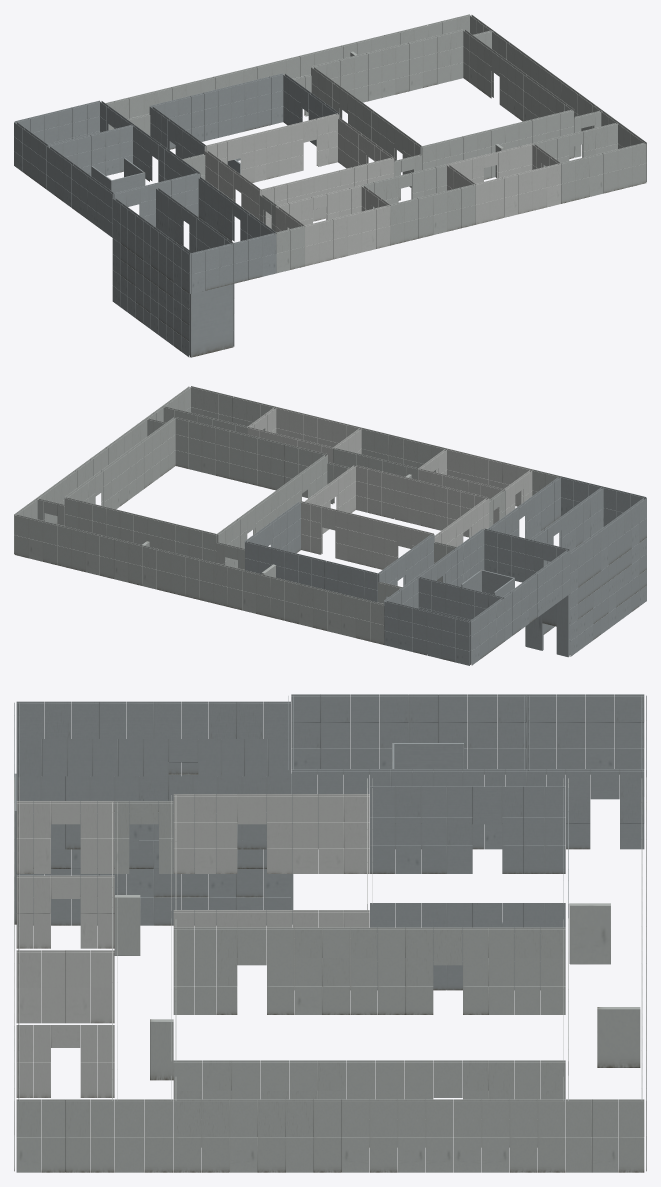
File: WS_B3_Walls.fbx
3 views of the same model, one above another, from view 1: azimuth 30°, elevation 25°; view 2: azimuth 150°, elevation 25°; view 3: azimuth 270°, elevation 25° (orthographic). The views are drawn at different scales.
Parts seen in each view (by area): view 1: WS_B3_WS_Steel_5_3, WS_B3_WS_Staff_0_3, WS_B3_WS_Steel_5_2, WS_B3_WS_Steel_5_0, WS_B3_WS_Staff_1_0, WS_B3_WS_Clean_3_3, WS_B3_WS_Staff_0_0, WS_B3_WS_Staff_2_3, WS_B3_WS_Clean_1_3, WS_B3_WS_Steel_3_0, WS_B3_WS_Clean_4_3, WS_B3_WS_Steel_4_0 (+22 smaller); view 2: WS_B3_WS_Steel_5_3, WS_B3_WS_Steel_5_2, WS_B3_WS_Steel_5_0, WS_B3_WS_Staff_1_0, WS_B3_WS_Staff_0_0, WS_B3_WS_Staff_0_2, WS_B3_WS_Staff_2_0, WS_B3_WS_Staff_1_2, WS_B3_WS_Clean_3_2, WS_B3_WS_Steel_4_0, WS_B3_WS_Clean_3_1, WS_B3_WS_Staff_4_0 (+23 smaller); view 3: WS_B3_WS_Steel_5_3, WS_B3_WS_Staff_0_2, WS_B3_WS_Staff_0_1, WS_B3_WS_Steel_5_2, WS_B3_WS_Staff_0_0, WS_B3_WS_Steel_5_1, WS_B3_WS_Staff_2_1, WS_B3_WS_Steel_4_1, WS_B3_WS_Steel_4_0, WS_B3_WS_Staff_0_3, WS_B3_WS_Staff_2_2, WS_B3_WS_Steel_5_0 (+18 smaller).
Part boxes in pixels (left/top/right/bottom): WS_B3_WS_Steel_5_3: left=143, top=212, right=262, bottom=357; WS_B3_WS_Staff_0_3: left=532, top=110, right=646, bottom=200; WS_B3_WS_Steel_5_2: left=104, top=176, right=191, bottom=323; WS_B3_WS_Steel_5_0: left=14, top=104, right=119, bottom=195; WS_B3_WS_Staff_1_0: left=313, top=31, right=423, bottom=102; WS_B3_WS_Clean_3_3: left=301, top=161, right=390, bottom=255; WS_B3_WS_Staff_0_0: left=398, top=14, right=516, bottom=92; WS_B3_WS_Staff_2_3: left=385, top=141, right=475, bottom=238; WS_B3_WS_Clean_1_3: left=470, top=143, right=561, bottom=221; WS_B3_WS_Steel_3_0: left=190, top=76, right=270, bottom=160; WS_B3_WS_Clean_4_3: left=261, top=181, right=347, bottom=266; WS_B3_WS_Steel_4_0: left=85, top=96, right=191, bottom=172; WS_B3_WS_Steel_5_3: left=559, top=480, right=646, bottom=634; WS_B3_WS_Steel_5_2: left=497, top=518, right=600, bottom=657; WS_B3_WS_Steel_5_0: left=398, top=580, right=512, bottom=665; WS_B3_WS_Staff_1_0: left=85, top=507, right=190, bottom=592; WS_B3_WS_Staff_0_0: left=14, top=481, right=107, bottom=571; WS_B3_WS_Staff_0_2: left=98, top=417, right=215, bottom=494; WS_B3_WS_Staff_2_0: left=171, top=519, right=244, bottom=610; WS_B3_WS_Staff_1_2: left=216, top=428, right=298, bottom=490; WS_B3_WS_Clean_3_2: left=368, top=469, right=447, bottom=530; WS_B3_WS_Steel_4_0: left=338, top=561, right=432, bottom=648; WS_B3_WS_Clean_3_1: left=321, top=506, right=398, bottom=569; WS_B3_WS_Staff_4_0: left=313, top=582, right=401, bottom=644; WS_B3_WS_Steel_5_3: left=14, top=701, right=181, bottom=925; WS_B3_WS_Staff_0_2: left=173, top=1025, right=341, bottom=1172; WS_B3_WS_Staff_0_1: left=318, top=1060, right=488, bottom=1172; WS_B3_WS_Steel_5_2: left=168, top=694, right=320, bottom=925; WS_B3_WS_Staff_0_0: left=482, top=1025, right=646, bottom=1172; WS_B3_WS_Steel_5_1: left=320, top=694, right=496, bottom=786; WS_B3_WS_Staff_2_1: left=322, top=927, right=488, bottom=1014; WS_B3_WS_Steel_4_1: left=343, top=769, right=501, bottom=873; WS_B3_WS_Steel_4_0: left=484, top=758, right=646, bottom=873; WS_B3_WS_Staff_0_3: left=14, top=1025, right=173, bottom=1172; WS_B3_WS_Staff_2_2: left=173, top=919, right=322, bottom=1014; WS_B3_WS_Steel_5_0: left=497, top=694, right=646, bottom=774.
Size of the model in its own units: 4827 by 1119 by 3227.
